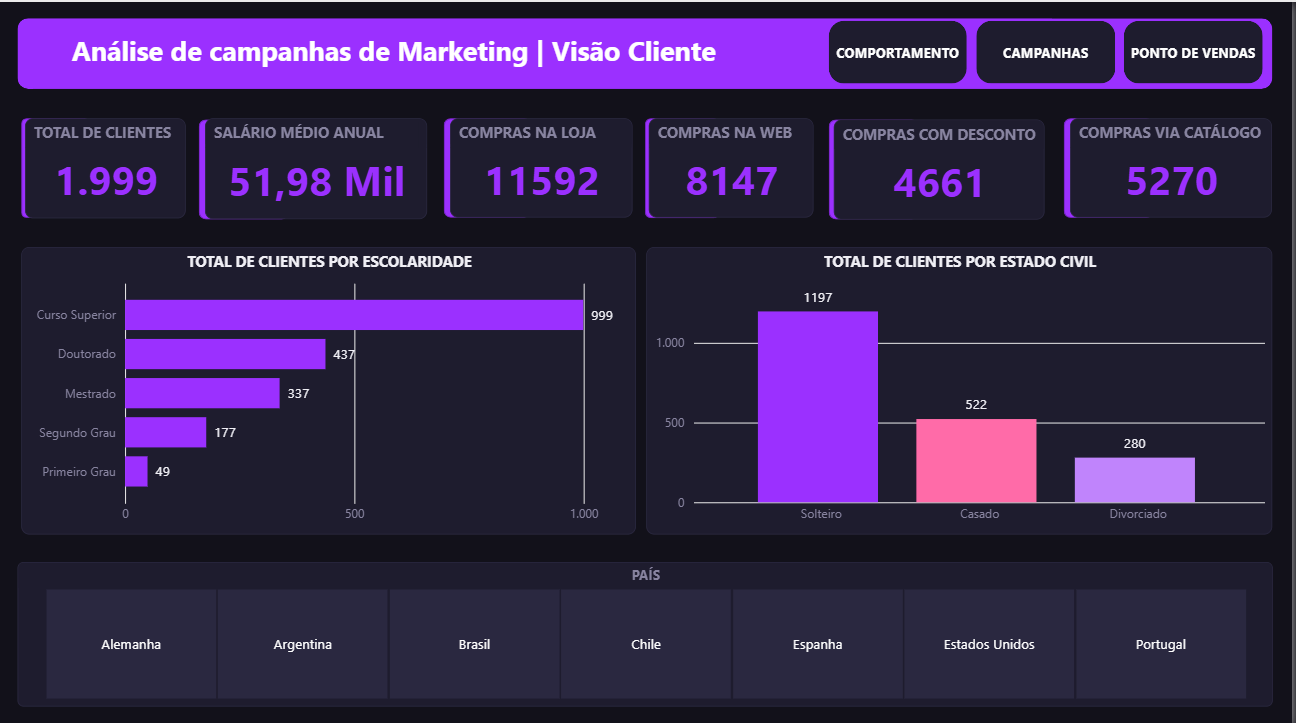

Layout of this report page (visuals, bound fields, positions):
{"tool":"powerbi","page":{"name":"Visão cliente","canvas":[1280,720],"ordinal":0},"visuals":[{"type":"shape","box":[17.1,15.7,1242.9,70],"z":0},{"type":"shape","box":[439.1,115.3,86.5,98.4],"z":0,"group":"g3"},{"type":"shape","box":[639.1,115.3,73.8,98.9],"z":0,"group":"g4"},{"type":"shape","box":[1053.3,115.6,88.8,98.8],"z":0,"group":"g6"},{"type":"shape","box":[196.6,116.2,89.3,98.9],"z":0,"group":"g2"},{"type":"shape","box":[820.4,116.5,89.3,98.9],"z":0,"group":"g5"},{"type":"textbox","box":[55.7,24.3,668.6,54.3],"z":1000},{"type":"card","title":"SALÁRIO MÉDIO ANUAL","fields":{"Values":["Avg(DadosMarketing.Salario Anual)"]},"box":[202.2,115.3,220,100],"z":1000,"group":"g2"},{"type":"card","title":"COMPRAS NA LOJA","fields":{"Values":["Sum(DadosMarketing.Numero de Compras na Loja)"]},"box":[444.9,115.3,180.4,98.8],"z":1000,"group":"g3"},{"type":"card","title":"COMPRAS NA WEB","fields":{"Values":["Sum(DadosMarketing.Numero de Compras na Web)"]},"box":[643.2,115.6,163.4,98.8],"z":1000,"group":"g4"},{"type":"card","title":"COMPRAS VIA CATÁLOGO","fields":{"Values":["Sum(DadosMarketing.Numero de Compras via Catalogo)"]},"box":[1059.8,115.9,200.1,98.6],"z":1000,"group":"g6"},{"type":"card","title":"COMPRAS COM DESCONTO","fields":{"Values":["Sum(DadosMarketing.Numero de Compras com Desconto)"]},"box":[825.4,116.5,208.7,99.1],"z":1000,"group":"g5"},{"type":"shape","box":[20.7,115,68.1,98.8],"z":1500,"group":"g1"},{"type":"group","id":"g1","title":"Grupo 1","box":[20.7,115,162.9,98.6],"z":2000},{"type":"card","title":"TOTAL DE CLIENTES","fields":{"Values":["CountNonNull(DadosMarketing.ID)"]},"box":[24.5,115,159.2,99],"z":2000,"group":"g1"},{"type":"group","id":"g2","title":"Grupo 1","box":[196.6,115.3,226.2,100],"z":3000},{"type":"group","id":"g3","title":"Grupo 1","box":[439.1,115.3,186.2,98.8],"z":4000},{"type":"group","id":"g4","title":"Grupo 1","box":[639.1,115.3,167.5,98.8],"z":5000},{"type":"group","id":"g5","title":"Grupo 1","box":[820.4,116.5,213.8,98.8],"z":6000},{"type":"group","id":"g6","title":"Grupo 1","box":[1053.3,115.6,205.6,98.9],"z":7000},{"type":"clusteredBarChart","title":"TOTAL DE CLIENTES POR ESCOLARIDADE","fields":{"Category":["DadosMarketing.Escolaridade"],"Y":["CountNonNull(DadosMarketing.ID)"]},"box":[21.2,242.5,608.8,285],"z":8000},{"type":"clusteredColumnChart","title":"TOTAL DE CLIENTES POR ESCOLARIDADE","fields":{"Y":["CountNonNull(DadosMarketing.ID)"],"Category":["DadosMarketing.Estado Civil"]},"box":[640,242.5,620,285],"z":9000},{"type":"slicer","title":"PAÍS","fields":{"Values":["DadosMarketing.Pais"]},"box":[17.8,554.4,1243.3,143.3],"z":10000},{"type":"actionButton","box":[821.1,18.9,136.7,62.2],"z":11000},{"type":"actionButton","box":[966.7,18.9,137.8,62.2],"z":12000},{"type":"actionButton","box":[1113.3,18.9,137.8,62.2],"z":13000}]}

Visuals, with their boxes in screenshot pixels (x1, y1, x2, y2), scaled from the page's 1280x720 canvas onto the 1296x723 screenshot:
shape: box(17, 16, 1276, 86)
shape: box(445, 116, 532, 215)
shape: box(647, 116, 722, 215)
shape: box(1066, 116, 1156, 215)
shape: box(199, 117, 289, 216)
shape: box(831, 117, 921, 216)
textbox: box(56, 24, 733, 79)
"SALÁRIO MÉDIO ANUAL" card: box(205, 116, 427, 216)
"COMPRAS NA LOJA" card: box(450, 116, 633, 215)
"COMPRAS NA WEB" card: box(651, 116, 817, 215)
"COMPRAS VIA CATÁLOGO" card: box(1073, 116, 1276, 215)
"COMPRAS COM DESCONTO" card: box(836, 117, 1047, 216)
shape: box(21, 115, 90, 215)
"Grupo 1" group: box(21, 115, 186, 214)
"TOTAL DE CLIENTES" card: box(25, 115, 186, 215)
"Grupo 1" group: box(199, 116, 428, 216)
"Grupo 1" group: box(445, 116, 633, 215)
"Grupo 1" group: box(647, 116, 817, 215)
"Grupo 1" group: box(831, 117, 1047, 216)
"Grupo 1" group: box(1066, 116, 1275, 215)
"TOTAL DE CLIENTES POR ESCOLARIDADE" clusteredBarChart: box(21, 244, 638, 530)
"TOTAL DE CLIENTES POR ESCOLARIDADE" clusteredColumnChart: box(648, 244, 1276, 530)
"PAÍS" slicer: box(18, 557, 1277, 701)
actionButton: box(831, 19, 970, 81)
actionButton: box(979, 19, 1118, 81)
actionButton: box(1127, 19, 1267, 81)
